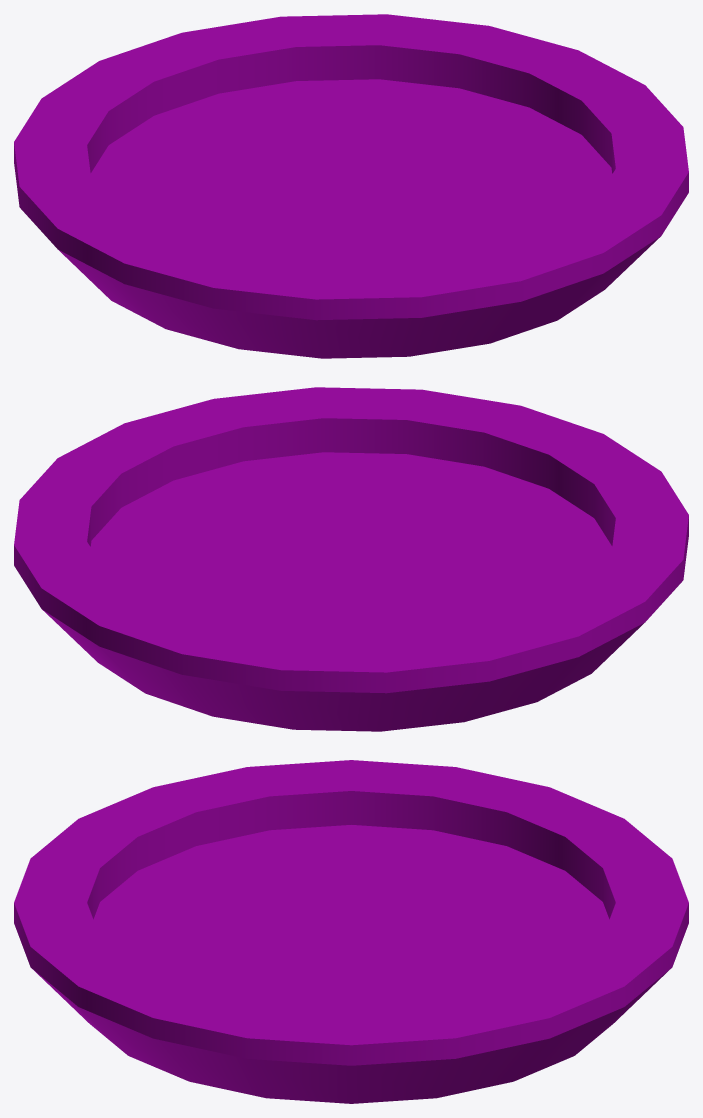
The model's file is Bowl01.fbx.
3 renders of one model, top to bottom at view 1: azimuth 30°, elevation 25°; view 2: azimuth 150°, elevation 25°; view 3: azimuth 270°, elevation 25°, orthographic.
Parts seen in each view (by area): view 1: Bowl01; view 2: Bowl01; view 3: Bowl01.
Boxes of the visible parts, bbox=[...] form: Bowl01: bbox=[14, 14, 688, 358]; Bowl01: bbox=[14, 387, 688, 731]; Bowl01: bbox=[14, 760, 688, 1103].
Bounding box in the file's own units: 3.61 × 0.5 × 3.61.
